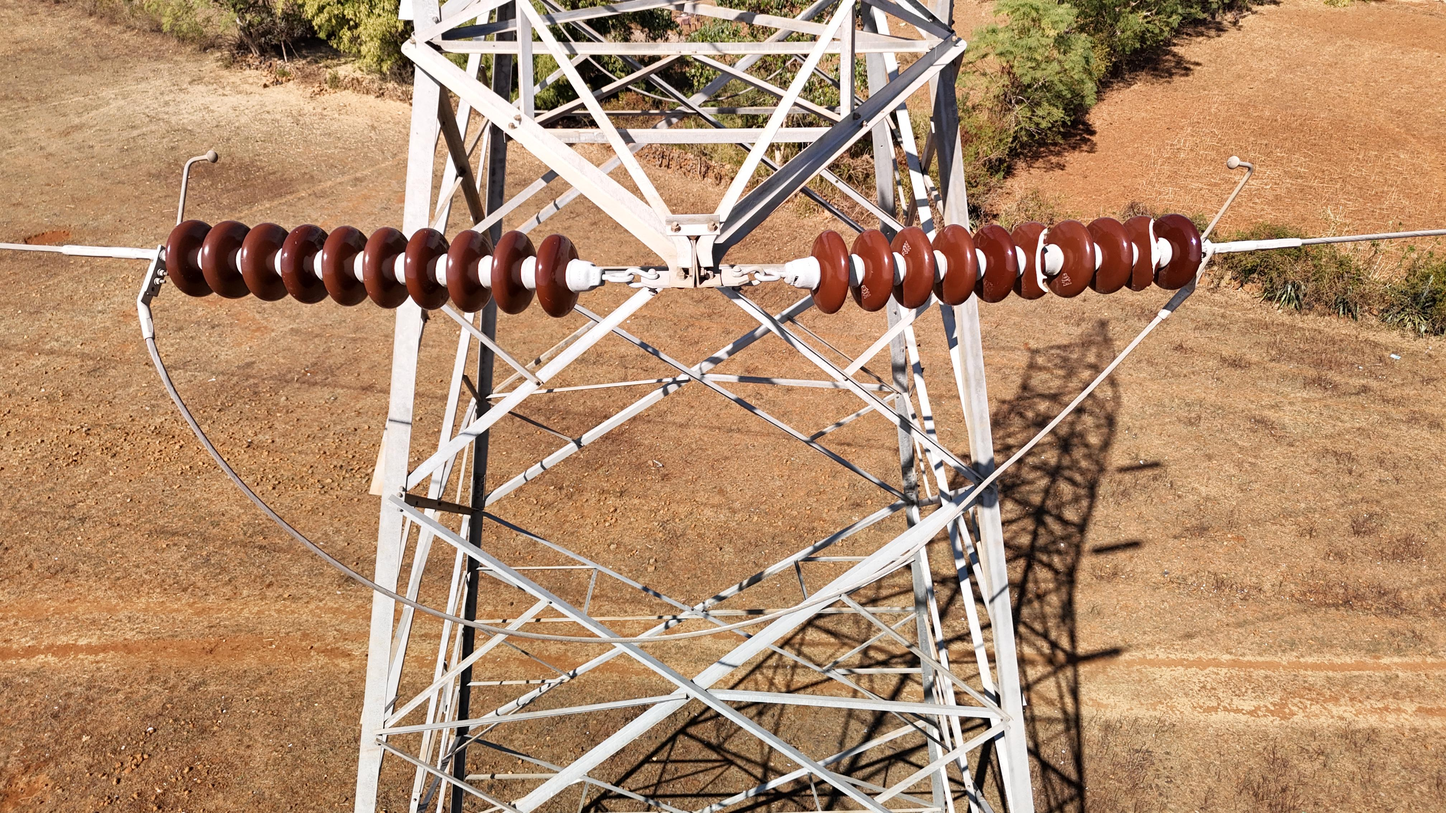broken_insulator: (1127, 202, 1163, 300), (1015, 212, 1052, 307)
